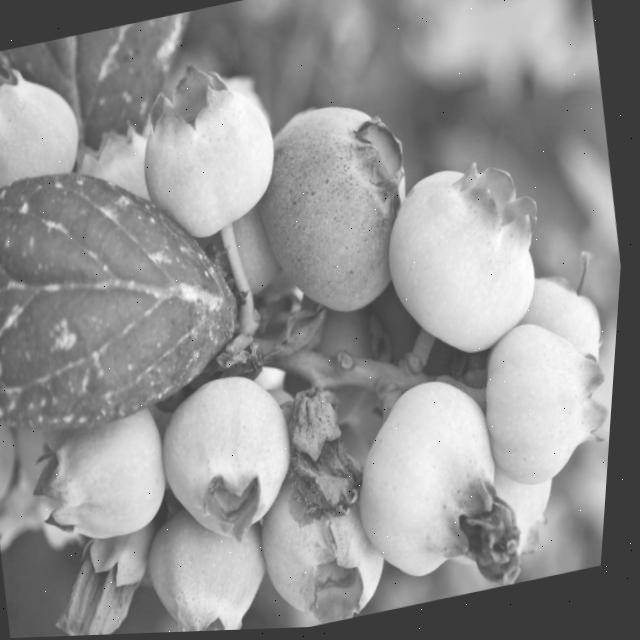Semi-RipeBlueBerry: (257, 94, 429, 322)
UnripeBlueBerry: (346, 371, 530, 594), (375, 152, 557, 369), (127, 61, 297, 254), (153, 365, 315, 545), (252, 447, 403, 632), (475, 313, 623, 491), (32, 392, 186, 551), (140, 500, 287, 635), (0, 55, 92, 203)
